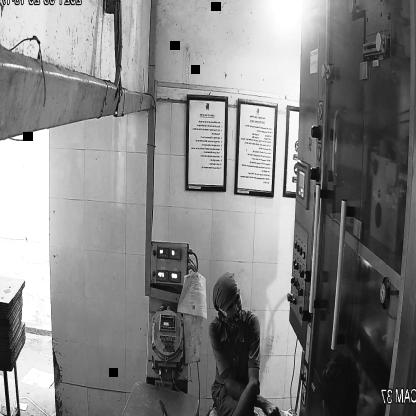goggles: (218, 292, 244, 318)
